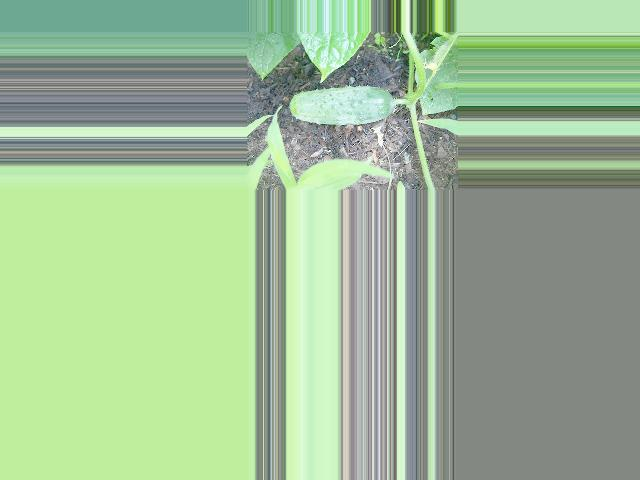cucumber: (288, 86, 394, 125)
